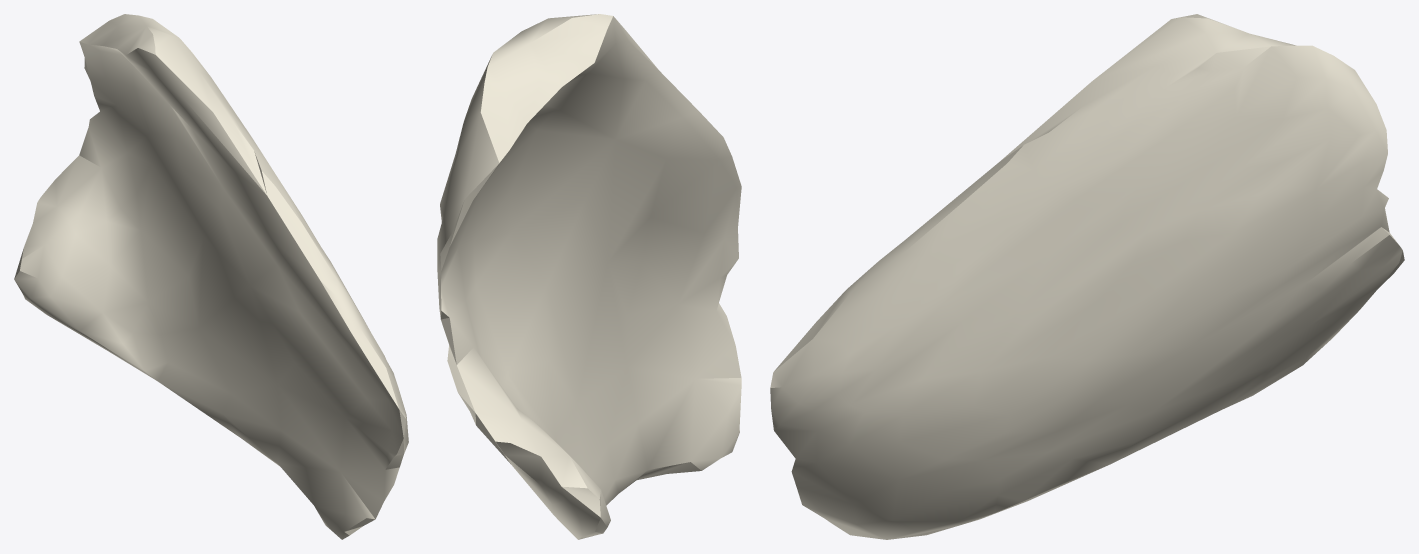
File: fma326797-l_mm1455.glb
The picture shows the model from 3 angles, left to right: view 1: azimuth 30°, elevation 25°; view 2: azimuth 150°, elevation 25°; view 3: azimuth 270°, elevation 25°; orthographic projection. The views are drawn at different scales.
Parts seen in each view (by area): view 1: FMA326797-L_MM1455; view 2: FMA326797-L_MM1455; view 3: FMA326797-L_MM1455.
Boxes of the visible parts, left/top/right/bottom form: FMA326797-L_MM1455: left=14, top=14, right=408, bottom=539; FMA326797-L_MM1455: left=437, top=14, right=741, bottom=539; FMA326797-L_MM1455: left=770, top=14, right=1404, bottom=539.
Bounding box in the file's own units: 0.00277 × 0.00604 × 0.00705.
